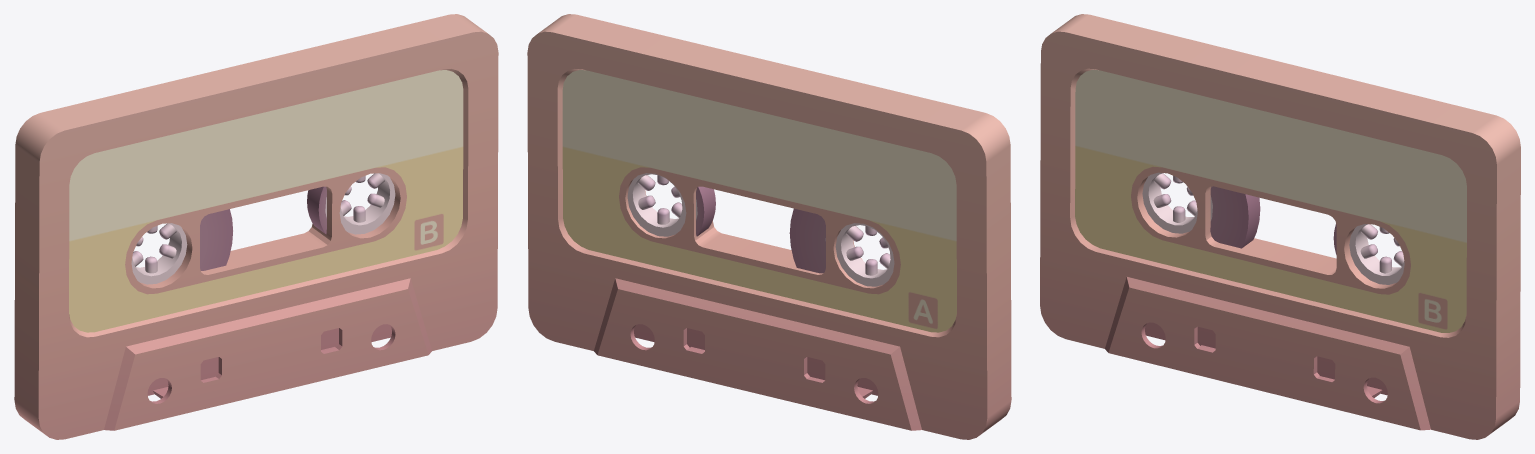
The model's file is CassetteToRotate.fbx.
3 renders of one model, left to right at view 1: azimuth 30°, elevation 25°; view 2: azimuth 150°, elevation 25°; view 3: azimuth 330°, elevation 25°, orthographic.
Parts seen in each view (by area): view 1: Animatoin00:Cassette, Animatoin00:Cassette_Tape_1_Left, Animatoin00:Cassette_Tape_2_Right; view 2: Animatoin00:Cassette, Animatoin00:Cassette_Tape_1_Left, Animatoin00:Cassette_Tape_2_Right; view 3: Animatoin00:Cassette, Animatoin00:Cassette_Tape_1_Left, Animatoin00:Cassette_Tape_2_Right.
Boxes of the visible parts, x1,y1,x2,y2 form: Animatoin00:Cassette: (14,14,498,439); Animatoin00:Cassette_Tape_1_Left: (131,209,232,284); Animatoin00:Cassette_Tape_2_Right: (307,173,395,234); Animatoin00:Cassette: (527,14,1011,439); Animatoin00:Cassette_Tape_1_Left: (789,208,894,286); Animatoin00:Cassette_Tape_2_Right: (627,173,715,236); Animatoin00:Cassette: (1040,14,1520,439); Animatoin00:Cassette_Tape_1_Left: (1142,172,1260,248); Animatoin00:Cassette_Tape_2_Right: (1333,224,1404,284).
Bounding box in the file's own units: 10.04 × 6.47 × 1.17.
